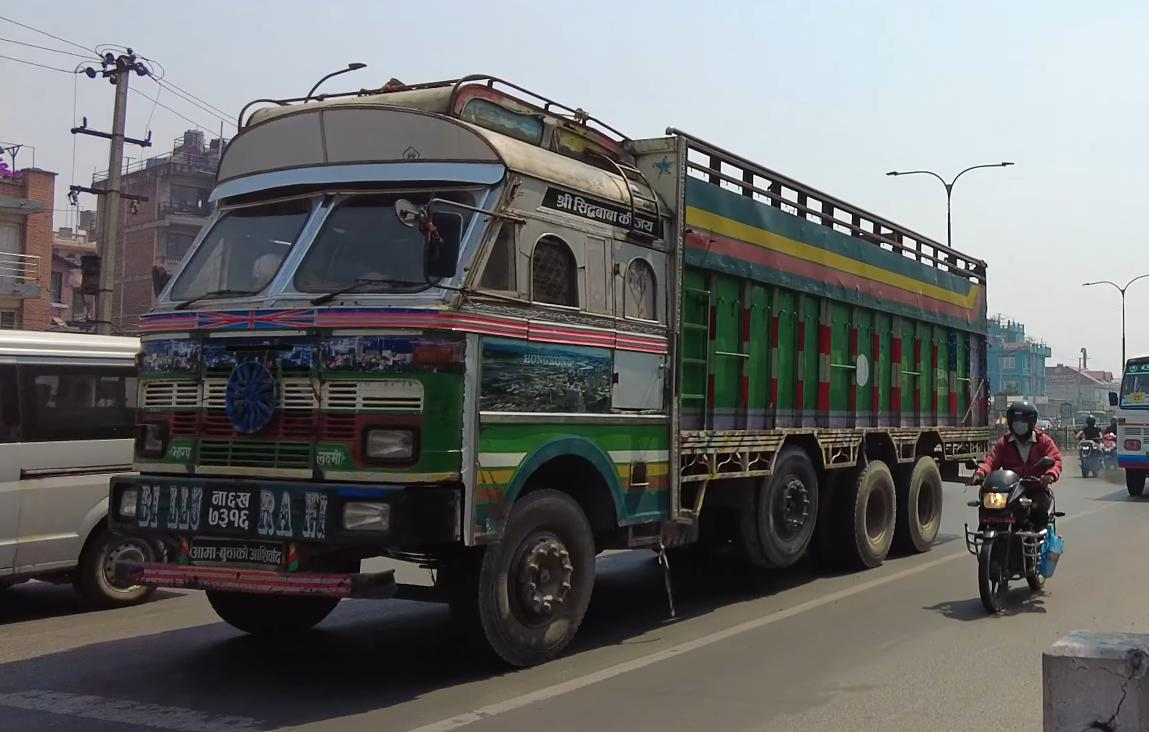bike: (962, 458, 1065, 613)
bus: (1114, 355, 1148, 496)
truck: (106, 62, 996, 668)
